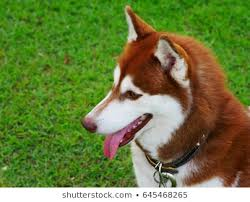Bulldog: (66, 9, 250, 188)
